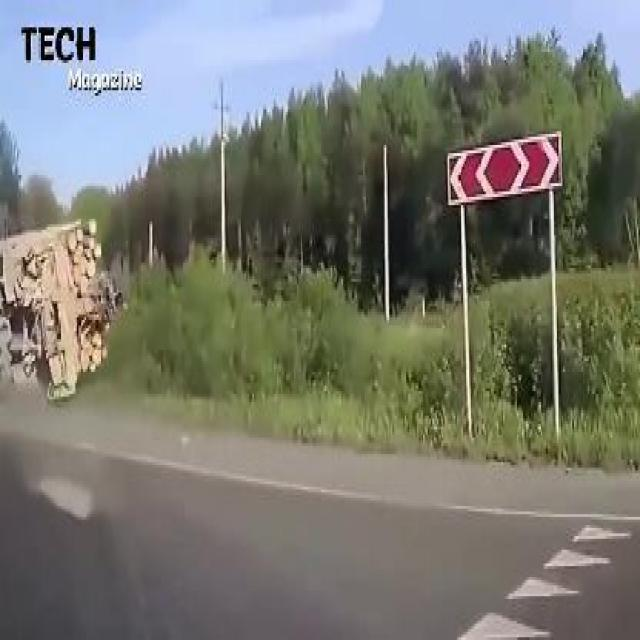accident: (0, 215, 117, 398)
